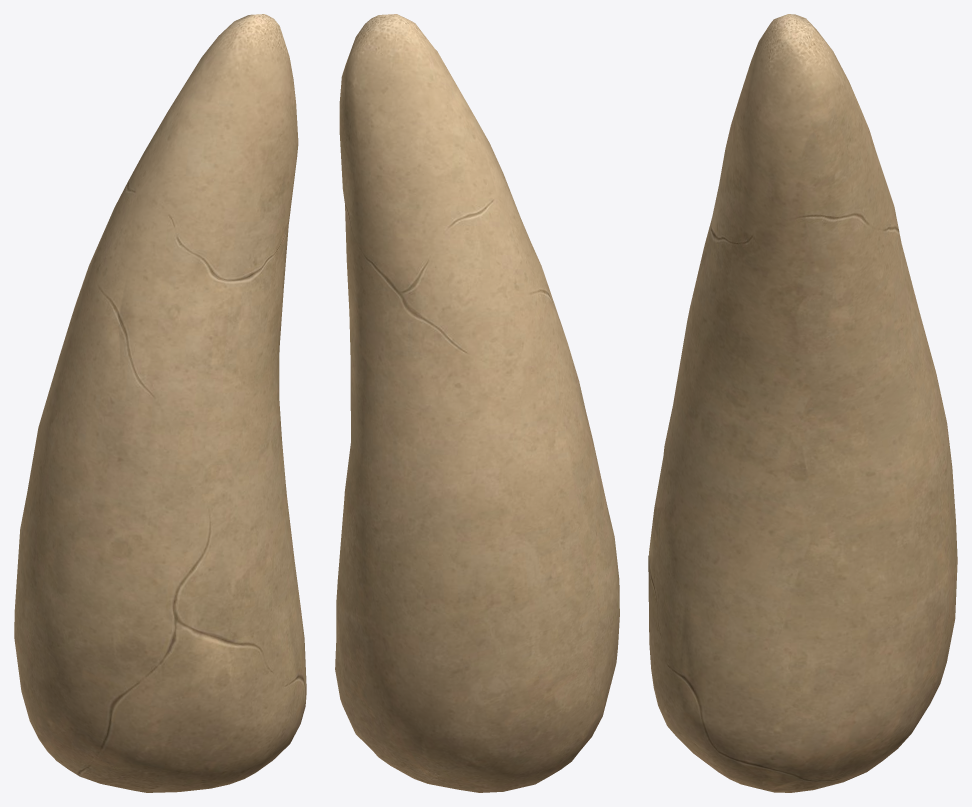
The picture shows the model from 3 angles, left to right: view 1: azimuth 30°, elevation 25°; view 2: azimuth 150°, elevation 25°; view 3: azimuth 270°, elevation 25°; orthographic projection. The views are drawn at different scales.
Parts seen in each view (by area): view 1: tb_bone_02b; view 2: tb_bone_02b; view 3: tb_bone_02b.
Part boxes in pixels (x1,y1,x2,y2): tb_bone_02b: (14,14,306,792); tb_bone_02b: (335,14,619,792); tb_bone_02b: (648,14,957,792).
Bounding box in the file's own units: 1.06 × 2.95 × 1.04.
1 material, 1 textured.
